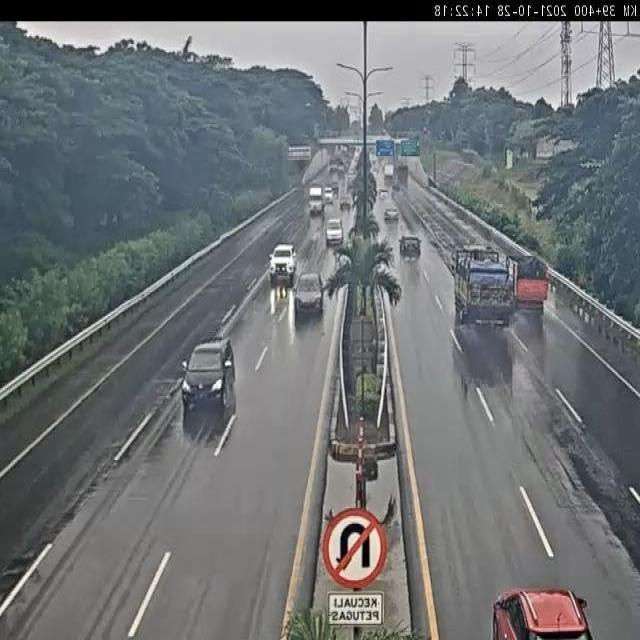Car: (492, 584, 594, 640), (180, 336, 234, 410), (292, 270, 324, 316), (268, 244, 296, 281), (398, 235, 422, 259), (326, 216, 344, 246), (384, 208, 400, 223), (324, 186, 334, 204), (340, 195, 351, 211), (378, 189, 389, 201), (331, 181, 339, 193)
Truck: (450, 242, 515, 330), (505, 254, 551, 313), (307, 184, 326, 214), (396, 164, 409, 186), (384, 162, 396, 180)
